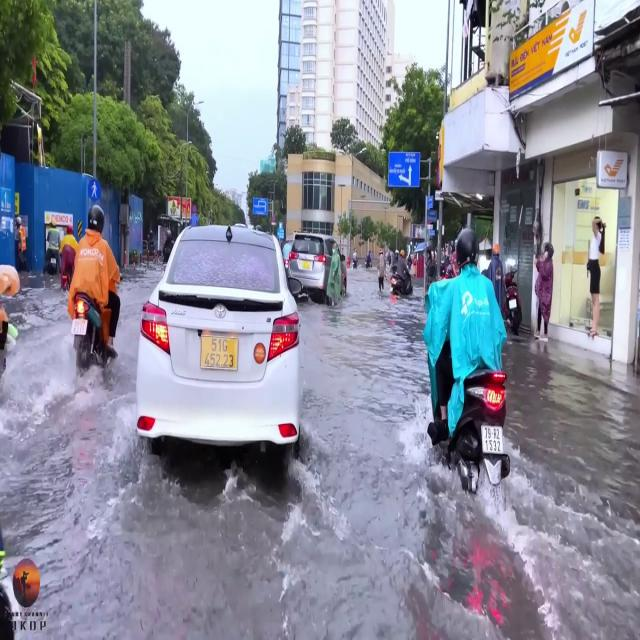bien_vang: (202, 333, 238, 368), (303, 260, 311, 269)
